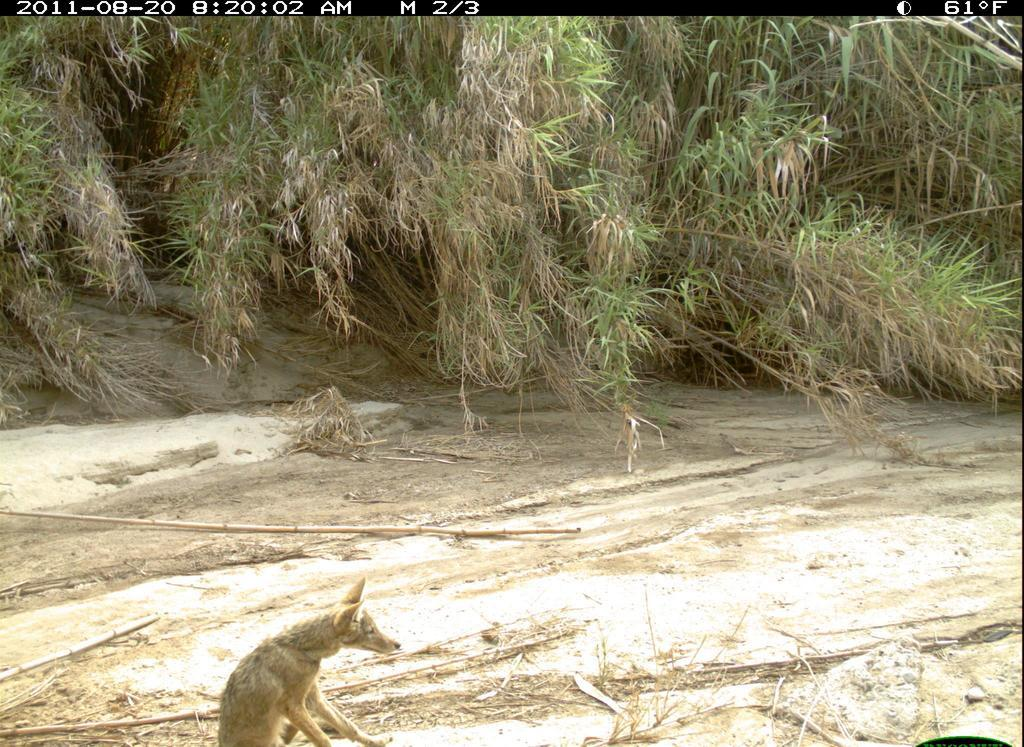coyote: (217, 578, 405, 745)
